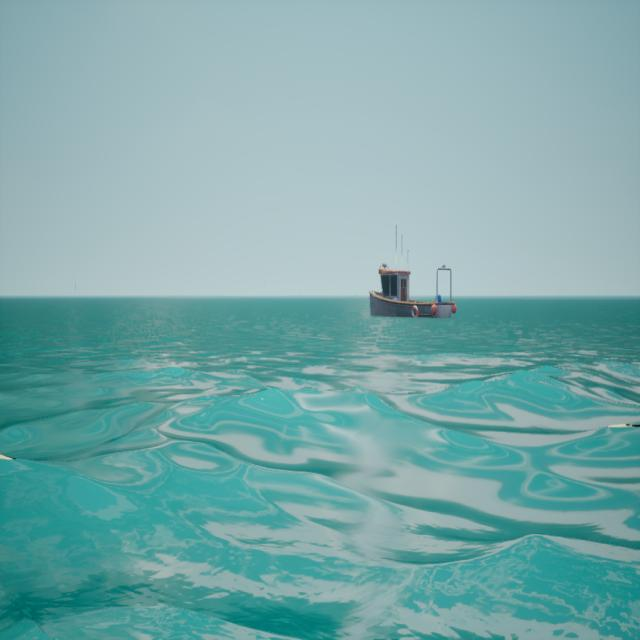ship: (367, 206, 462, 354)
